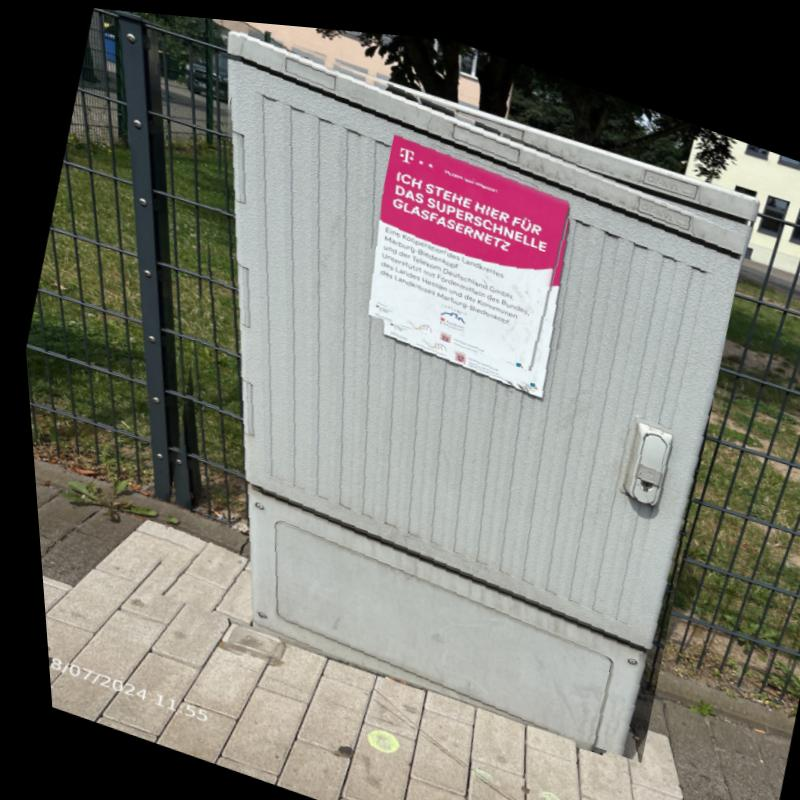NT-Gehause: (238, 35, 744, 742)
Steaker: (366, 130, 570, 362)
